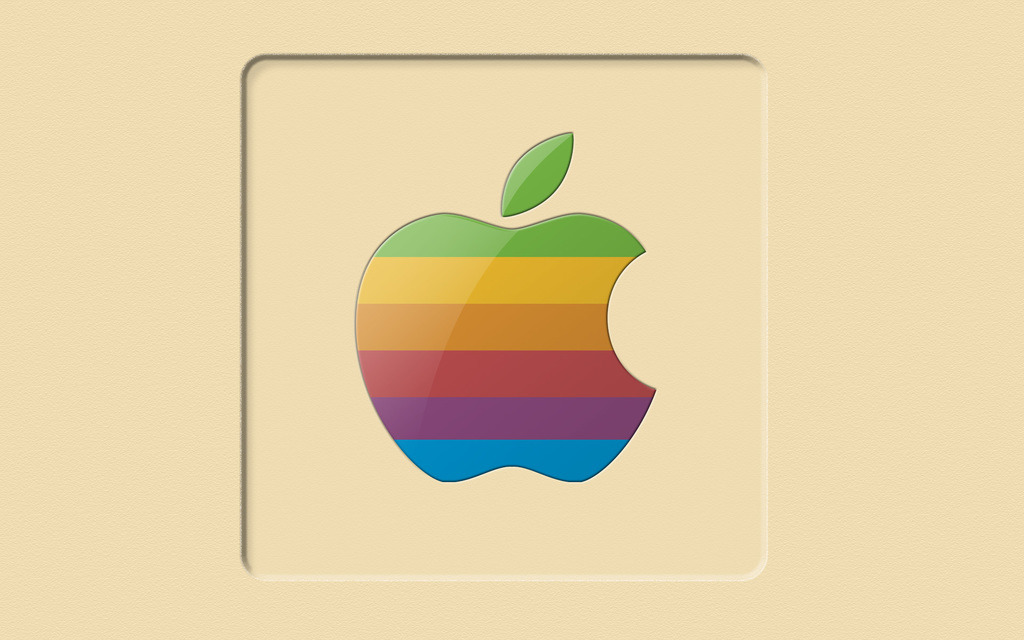Apple: (352, 127, 653, 484)
